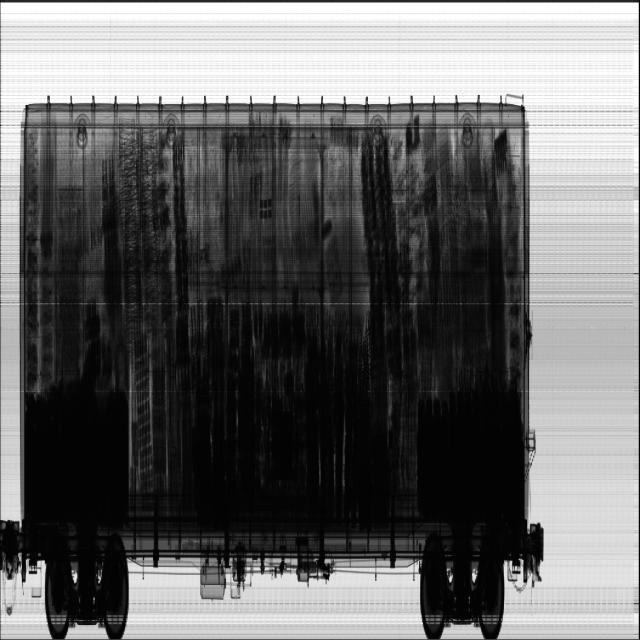auto parts: (20, 380, 105, 518), (337, 383, 423, 511)
spare parts: (142, 301, 249, 507)
